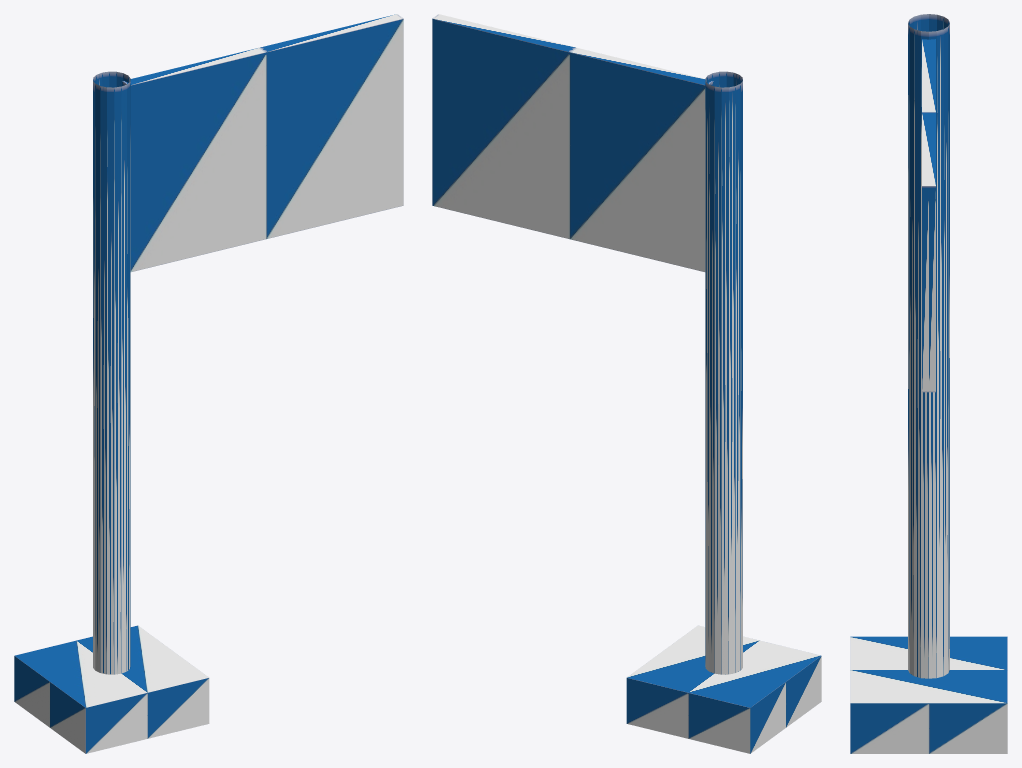
The model's file is CornerFlag.obj.
3 renders of one model, left to right at view 1: azimuth 30°, elevation 25°; view 2: azimuth 150°, elevation 25°; view 3: azimuth 270°, elevation 25°, orthographic. The views are drawn at different scales.
Parts seen in each view (by area): view 1: CornerFlag; view 2: CornerFlag; view 3: CornerFlag.
Part boxes in pixels (box(x1,y1,x2,y2)): CornerFlag: box(14, 14, 403, 753); CornerFlag: box(432, 14, 821, 753); CornerFlag: box(850, 14, 1007, 753).
Bounding box in the file's own units: 1.27 × 2.2 × 0.45.
1 material, 1 textured.
